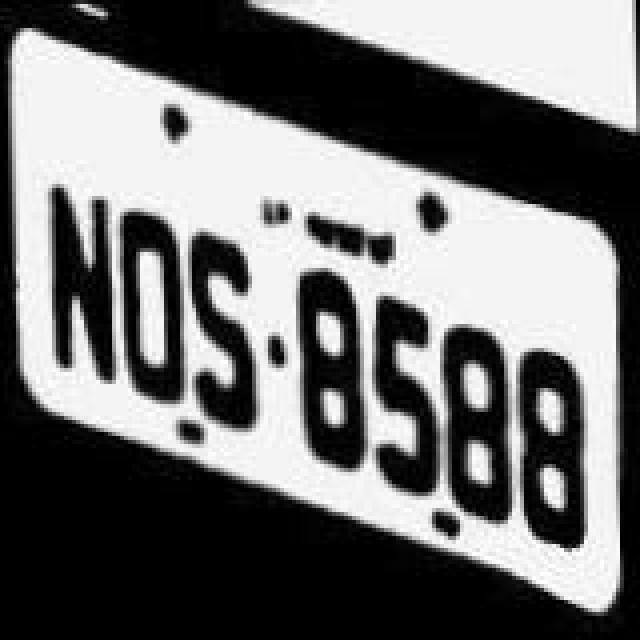5: (366, 272, 446, 512)
8: (292, 262, 376, 494), (510, 328, 594, 560), (438, 284, 518, 524)
N: (32, 136, 116, 392)
O: (114, 178, 190, 406)
S: (184, 228, 272, 436)
